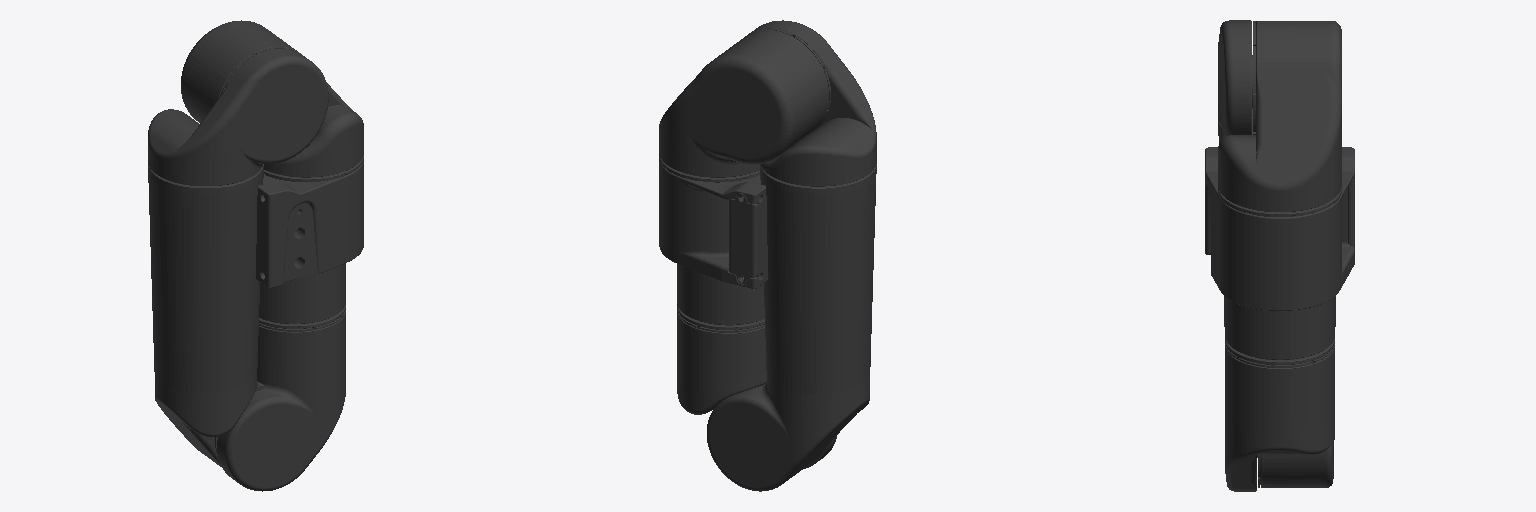
URDF robot description (bravo5):
<robot name="bravo5">
    <link name="base_link"/>
    <material name="bravo_black">
    <color rgba="0.3 0.3 0.3 1"/>
    </material>
    <joint name="bravo_joint" type="fixed">
        <origin rpy="0 0 0" xyz="0 0 0"/>
        <parent link="base_link"/>
        <child link="bravo_base_link"/>
    </joint>
    <link name="bravo_base_link"/>


    <link name="bravo_rs2_266_link">
        <visual>
            <geometry>
                <mesh filename="package://bravo_description/meshes/RS2-266.stl"/>
            </geometry>
            <material name="bravo_black"/>
        </visual>
    </link>

    <joint name="bravo_rs2_266_joint" type="fixed">
        <parent link="bravo_base_link"/>
        <child link="bravo_rs2_266_link"/>
        <origin rpy="0 0 0"/>
    </joint>

    <link name="bravo_rs2_217_link">
        <visual>
            <geometry>
                <mesh filename="package://bravo_description/meshes/RS2-217.stl"/>
            </geometry>
            <material name="bravo_black"/>
        </visual>
    </link>

    <joint name="bravo_axis_e" type="revolute">
        <parent link="bravo_rs2_266_link"/>
        <child link="bravo_rs2_217_link"/>
        <origin rpy="0 0 0" xyz="0.0665 0 0.078"/>
        <axis xyz="0 0 -1"/>
        <limit effort="9.0" lower="0.0" upper="6.3" velocity="0.5"/>
    </joint>

    <link name="bravo_rs2_250_212_214_link">
        <visual>
            <geometry>
                <mesh filename="package://bravo_description/meshes/RS2-250-212-214.stl"/>
            </geometry>
            <material name="bravo_black"/>
        </visual>
    </link>

    <joint name="bravo_axis_d" type="revolute">
        <parent link="bravo_rs2_217_link"/>
        <child link="bravo_rs2_250_212_214_link"/>
        <origin rpy="0 0 0" xyz="-0.046 0 0.0674"/>
        <axis xyz="0 1 0"/>
        <limit effort="9.0" lower="0.0" upper="3.5" velocity="0.5"/>
    </joint>

    <link name="bravo_rs2_268_link">
        <visual>
            <geometry>
                <mesh filename="package://bravo_description/meshes/RS2-268.stl"/>
            </geometry>
            <material name="bravo_black"/>
        </visual>
    </link>

    <joint name="bravo_axis_c" type="revolute">
        <parent link="bravo_rs2_250_212_214_link"/>
        <child link="bravo_rs2_268_link"/>
        <origin rpy="0 0 0" xyz="-0.0052 0 -0.29355"/>
        <axis xyz="0 1 0"/>
        <limit effort="9.0" lower="0.0" upper="3.5" velocity="0.5"/>
    </joint>

    <link name="bravo_rs2_180_link">
        <visual>
            <geometry>
                <mesh filename="package://bravo_description/meshes/RS2-180.stl"/>
            </geometry>
            <material name="bravo_black"/>
        </visual>
    </link>


    <joint name="bravo_axis_b" type="revolute">
        <parent link="bravo_rs2_268_link"/>
        <child link="bravo_rs2_180_link"/>
        <origin rpy="0 0 0" xyz="0.0408 0 0.09645"/>
        <axis xyz="0 0 -1"/>
        <limit effort="9.0" lower="0.0" upper="6.3" velocity="0.5"/>
    </joint>

    <joint name="bravo_jaws_joint" type="fixed">
    <origin rpy="0 0 0" xyz=" 0 0 0.124"/>
    <parent link="bravo_rs2_180_link"/>
    <child link="bravo_jaws_base_link"/>
  </joint>

    <material name="bravo_jaws_black">
    <color rgba="0.3 0.3 0.3 1"/>
  </material>
    <link name="bravo_jaws_base_link">
        <visual>
            <geometry>
                <mesh filename="package://bravo_description/meshes/end_effectors/RS2-257.stl"/>
            </geometry>
            <material name="bravo_jaws_black"/>
            </visual>
    </link>
    <link name="bravo_push_rod"/>
    <joint name="bravo_axis_a" type="prismatic">
        <origin rpy="0 0 0" xyz="0 0 0.009"/>
        <parent link="bravo_jaws_base_link"/>
        <child link="bravo_push_rod"/>
        <axis xyz="0 0 1"/>
        <limit effort="10" lower="0" upper="0.035" velocity="10"/>
    </joint>
    <link name="bravo_rs2_255_link">
        <visual>
            <geometry>
                <mesh filename="package://bravo_description/meshes/end_effectors/RS2-255.stl"/>
            </geometry>
        <material name="bravo_jaws_black"/>
        <origin rpy="0 0 0" xyz="0 0 0"/>
        </visual>
    </link>
    <joint name="bravo_rs2_255_joint" type="revolute">
        <origin rpy="0 0 0" xyz="0 0.033 0.0097"/>
        <parent link="bravo_jaws_base_link"/>
        <child link="bravo_rs2_255_link"/>
        <axis xyz="-1 0 0"/>
        <limit effort="10" lower="0" upper="0.5" velocity="10"/>
        <mimic joint="bravo_axis_a" multiplier="15" offset="0"/>
    </joint>
    <link name="bravo_rs2_255_jaw_inside_link">
        <visual>
            <geometry>
                <mesh filename="package://bravo_description/meshes/end_effectors/RS2-255-Jaw-Inside.stl"/>
            </geometry>
            <material name="bravo_jaws_black"/>
            <origin rpy="0 0 0" xyz="0 0 0"/>
        </visual>
    </link>
    <joint name="bravo_rs2_255_jaw_inside_joint" type="revolute">
        <origin rpy="0 0 0" xyz="0 -0.033 0.0097"/>
        <parent link="bravo_jaws_base_link"/>
        <child link="bravo_rs2_255_jaw_inside_link"/>
        <axis xyz="1 0 0"/>
        <limit effort="10" lower="0" upper="0.5" velocity="10"/>
        <mimic joint="bravo_axis_a" multiplier="15" offset="0"/>
    </joint>
</robot>

--- Render facts (derived) ---
Views: 3 orthographic renders of the robot side by side, from view 1: azimuth 30°, elevation 25°; view 2: azimuth 150°, elevation 25°; view 3: azimuth 270°, elevation 25°.
Model bravo5 with 11 links and 10 joints (6 revolute, 1 prismatic, 3 fixed), rooted at base_link, posed all joints at 0.
Links seen in each view (by area): view 1: bravo_rs2_250_212_214_link, bravo_rs2_268_link, bravo_rs2_266_link, bravo_rs2_217_link, bravo_rs2_180_link; view 2: bravo_rs2_250_212_214_link, bravo_rs2_217_link, bravo_rs2_266_link, bravo_rs2_268_link, bravo_rs2_180_link; view 3: bravo_rs2_217_link, bravo_rs2_266_link, bravo_rs2_268_link, bravo_rs2_250_212_214_link, bravo_rs2_180_link.
Link boxes in pixels (<box>): bravo_rs2_250_212_214_link: <box>148,49,328,466</box>; bravo_rs2_268_link: <box>217,310,345,491</box>; bravo_rs2_266_link: <box>256,158,363,287</box>; bravo_rs2_217_link: <box>181,20,363,180</box>; bravo_rs2_180_link: <box>259,263,345,328</box>; bravo_rs2_250_212_214_link: <box>707,20,876,491</box>; bravo_rs2_217_link: <box>659,29,830,180</box>; bravo_rs2_266_link: <box>659,157,767,288</box>; bravo_rs2_268_link: <box>677,310,836,468</box>; bravo_rs2_180_link: <box>677,264,764,329</box>; bravo_rs2_217_link: <box>1218,21,1341,215</box>; bravo_rs2_266_link: <box>1205,147,1354,310</box>; bravo_rs2_268_link: <box>1225,344,1334,491</box>; bravo_rs2_250_212_214_link: <box>1218,20,1335,487</box>; bravo_rs2_180_link: <box>1225,297,1334,364</box>.
Size in the robot's own frame: 0.184 by 0.1112 by 0.3803 metres.
5 mesh visuals loaded from 8 distinct referenced files (5 binary STL); not drawn: 3 (reference not matched to a file when rendering).